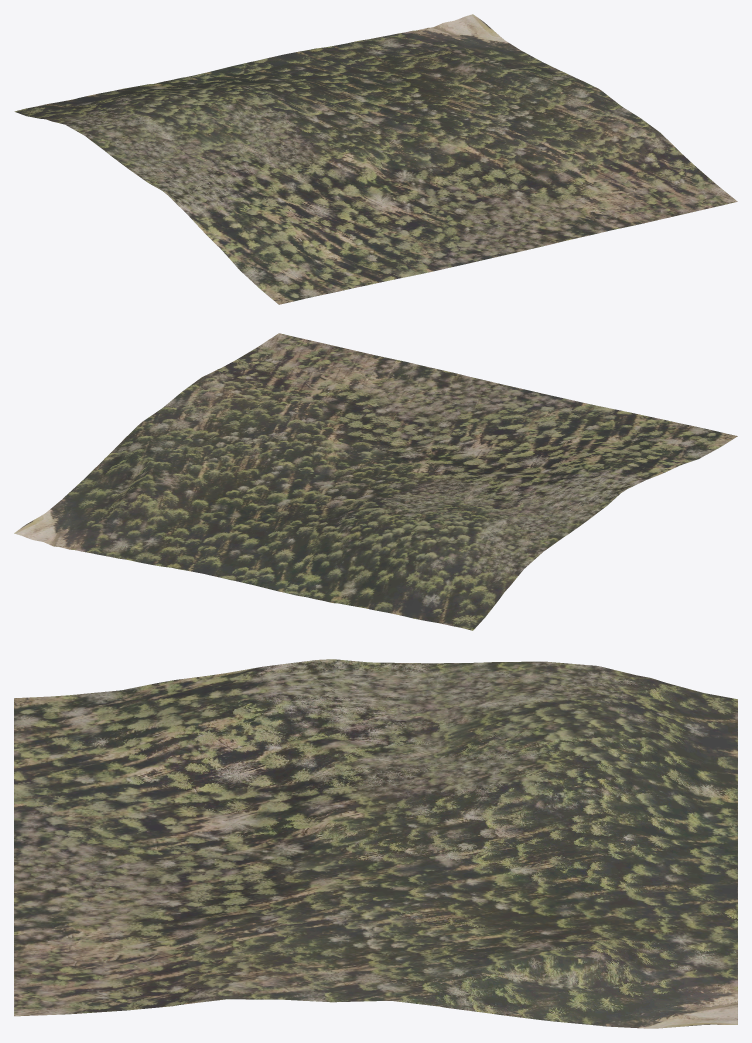
File: CM_Terrain_24493326_6815493.fbx
The picture shows the model from 3 angles, top to bottom: view 1: azimuth 30°, elevation 25°; view 2: azimuth 150°, elevation 25°; view 3: azimuth 270°, elevation 25°; orthographic projection. The views are drawn at different scales.
Visible parts, largest first — view 1: CM_Terrain_24493326_6815493_LOD0; view 2: CM_Terrain_24493326_6815493_LOD0; view 3: CM_Terrain_24493326_6815493_LOD0.
Part boxes in pixels (x1,y1,x2,y2): CM_Terrain_24493326_6815493_LOD0: (14, 14, 737, 304); CM_Terrain_24493326_6815493_LOD0: (14, 333, 737, 630); CM_Terrain_24493326_6815493_LOD0: (14, 659, 737, 1028).
Size of what is drawn, in the model's own units: 205 by 21.08 by 205.
